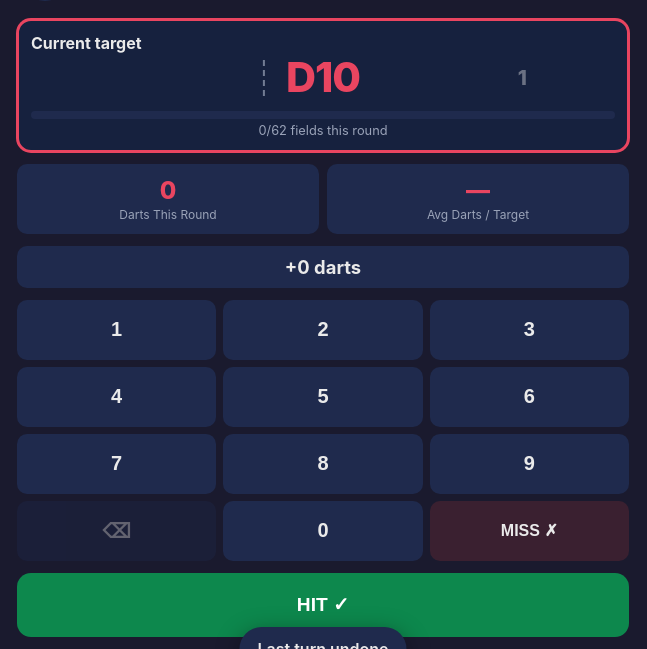
screens render without crashing › LiveTraining undo action reverts the whole last numpad entry after a confirming tap
The width and height of the screenshot is (647, 649).
expect the text "D10" is shown: met, box x1=286 y1=54 x2=360 y2=102
Note: Two entries: 5 misses, then "hit with dart 3" (2 misses + the hit).
Click the button "5".
click(323, 397)  # box x1=223 y1=367 x2=423 y2=427
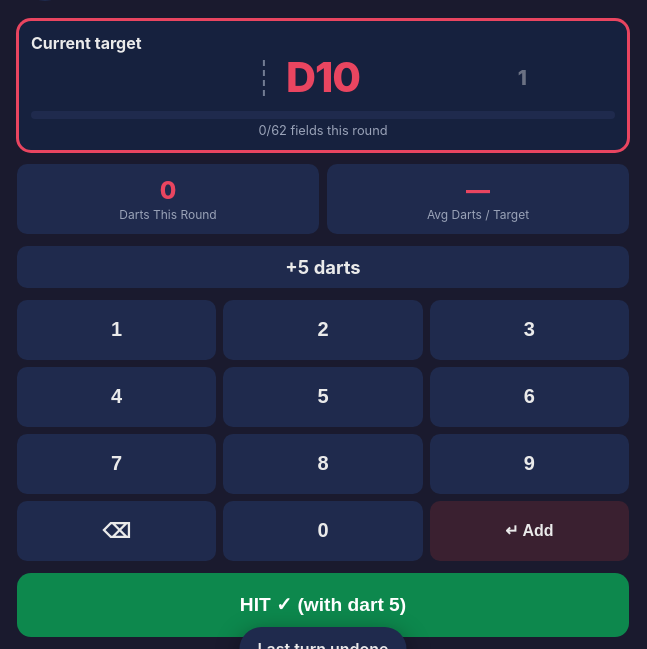
Click the button with aria-label "Add misses".
click(529, 531)  # box x1=430 y1=501 x2=629 y2=561
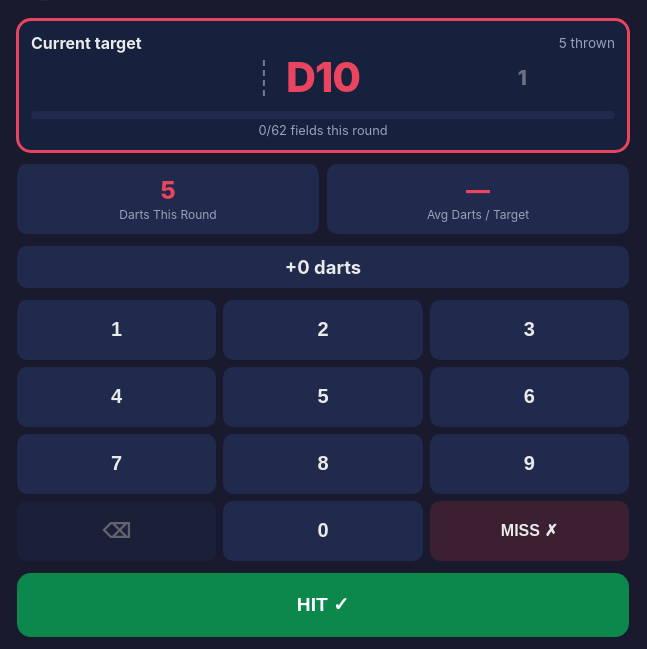
Click the button "3".
click(529, 330)  # box x1=430 y1=300 x2=629 y2=360
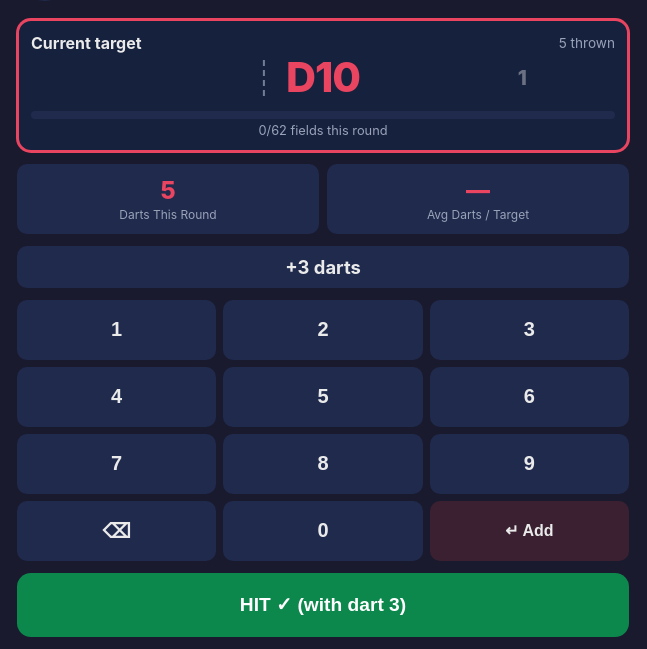
Click the button "HIT ✓ (with dart 3)".
click(323, 605)  # box x1=17 y1=573 x2=629 y2=637
(page scrolled)
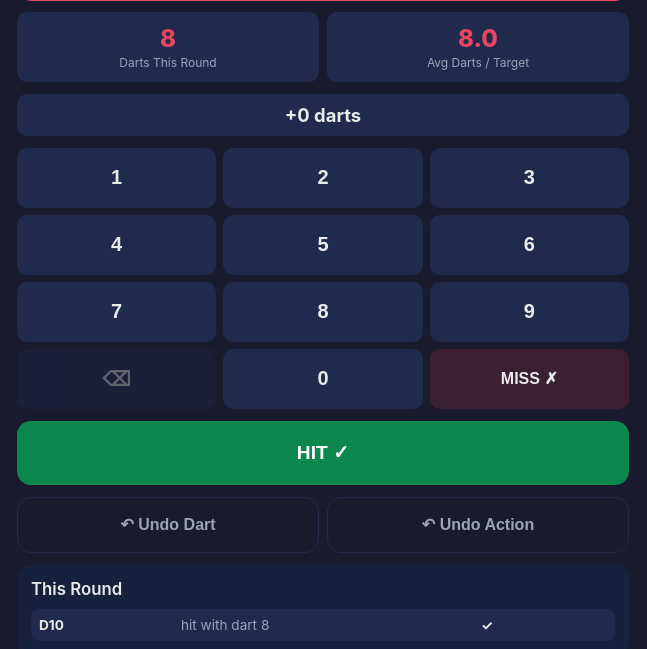
Click the button "↶ Undo Action".
click(478, 525)  # box x1=327 y1=497 x2=629 y2=553
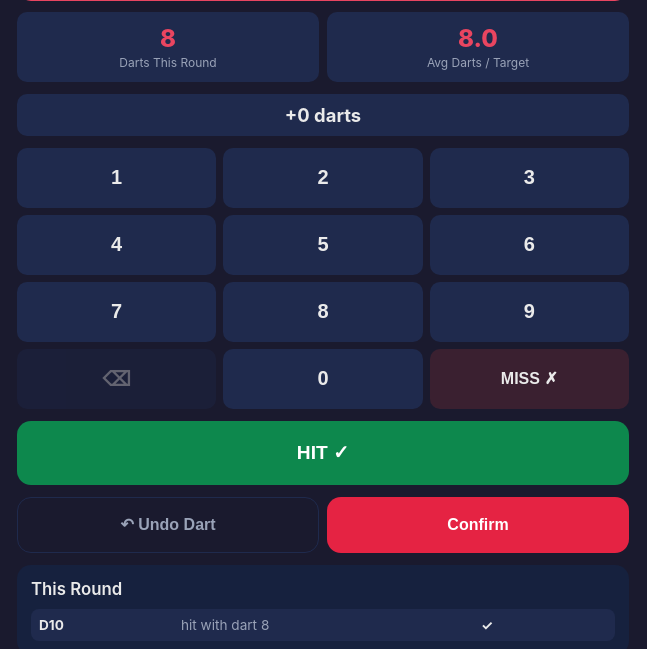
Click the button "Confirm".
click(478, 525)  # box x1=327 y1=497 x2=629 y2=553
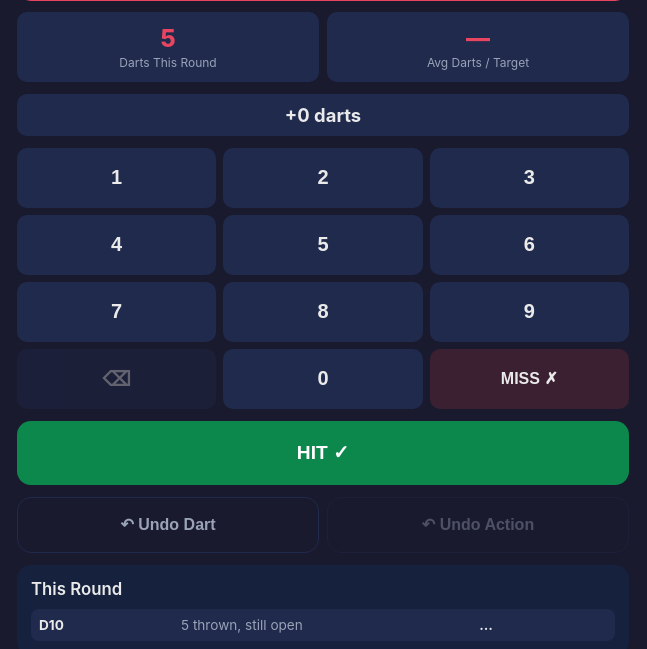
expect the button "↶ Undo Action" is disabled: met, box x1=327 y1=497 x2=629 y2=553
